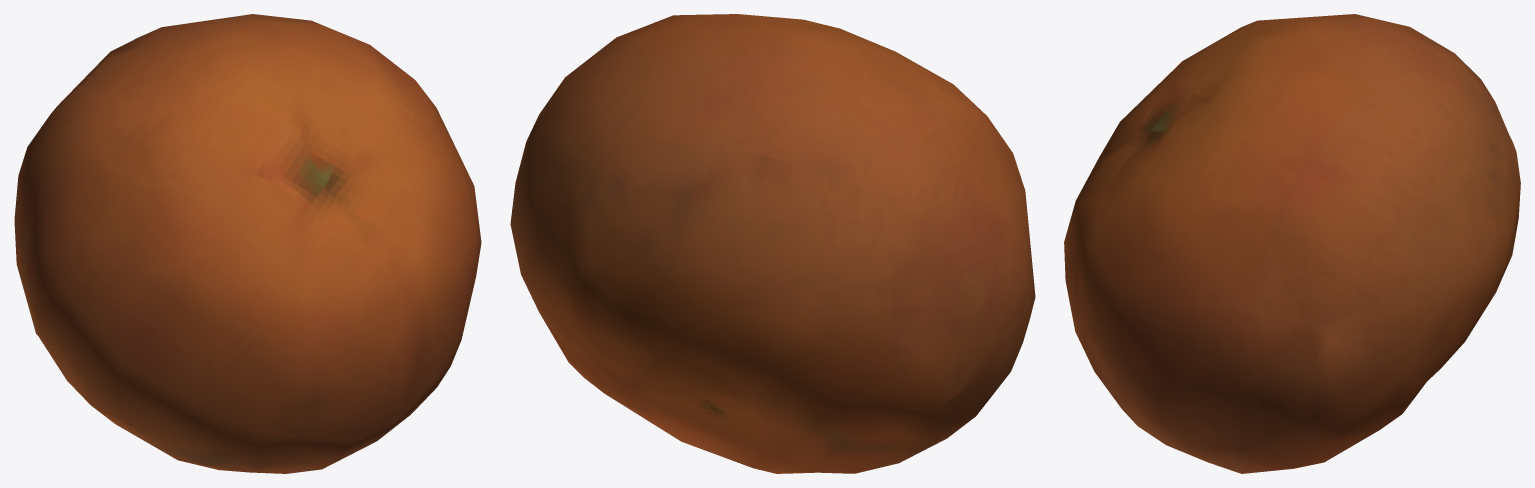
File: ref_orange.fbx
3 views of the same model, side by side, from view 1: azimuth 30°, elevation 25°; view 2: azimuth 150°, elevation 25°; view 3: azimuth 270°, elevation 25° (orthographic). The views are drawn at different scales.
Visible parts, largest first — view 1: ref_orange; view 2: ref_orange; view 3: ref_orange.
Boxes of the visible parts, box(x1,y1,x2,y2) form: ref_orange: box(14, 14, 481, 473); ref_orange: box(510, 14, 1035, 473); ref_orange: box(1064, 14, 1520, 473).
Bounding box in the file's own units: 100 × 93.5 × 92.78.
Materials: 1 (1 with a texture image).
